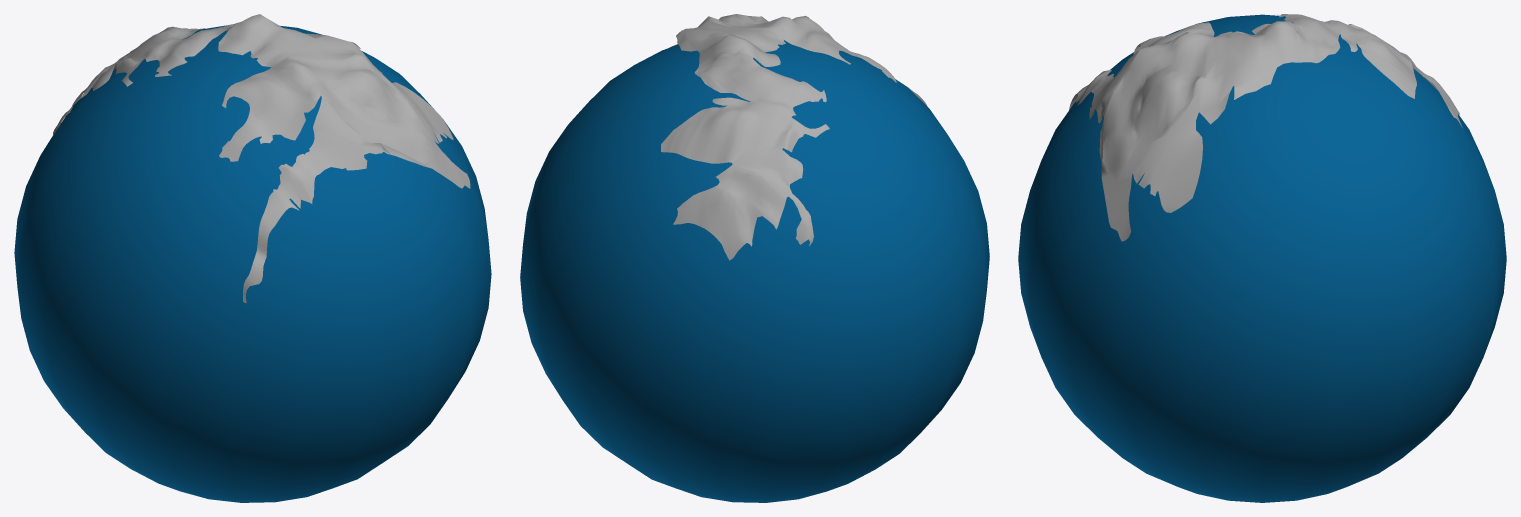
Rendered from Earth 5-20-1pm.fbx.
3 views of the same model, side by side, from view 1: azimuth 30°, elevation 25°; view 2: azimuth 150°, elevation 25°; view 3: azimuth 270°, elevation 25° (orthographic). The views are drawn at different scales.
Visible parts, largest first — view 1: Ocean, World; view 2: Ocean, World; view 3: Ocean, World.
Boxes of the visible parts, <box> form: Ocean: <box>14,25,491,502</box>; World: <box>53,14,470,303</box>; Ocean: <box>520,40,989,502</box>; World: <box>661,14,927,260</box>; Ocean: <box>1018,14,1506,502</box>; World: <box>1069,14,1462,241</box>.
Size of the model in its own units: 18.62 by 19.51 by 18.62.
